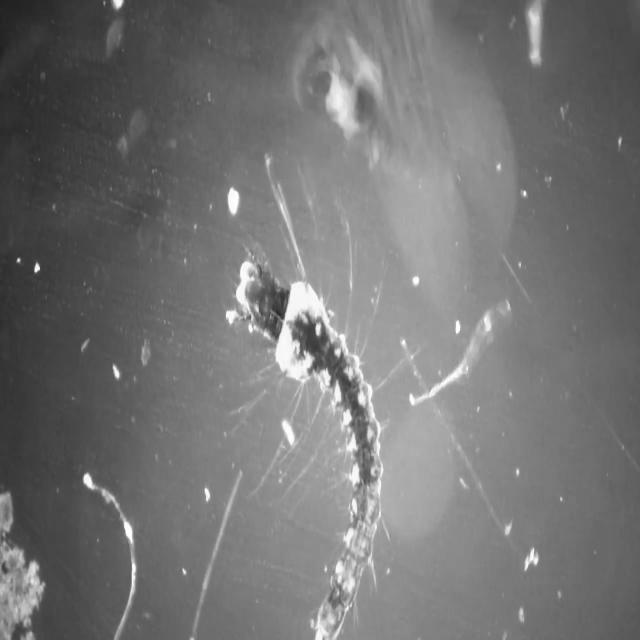larvas: (236, 265, 382, 640)
